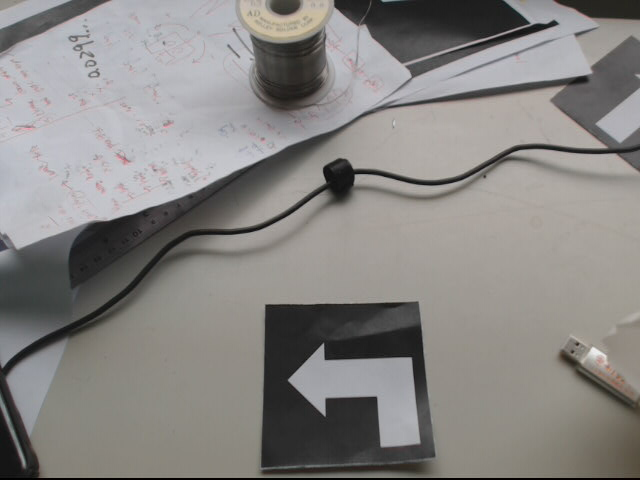left: (259, 301, 437, 466)
